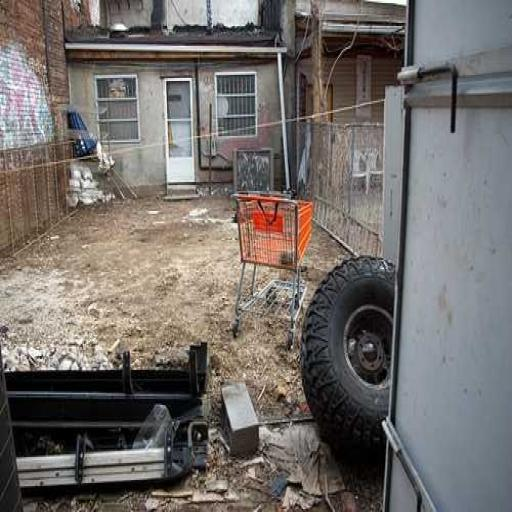shopping_cart: (230, 189, 313, 352)
